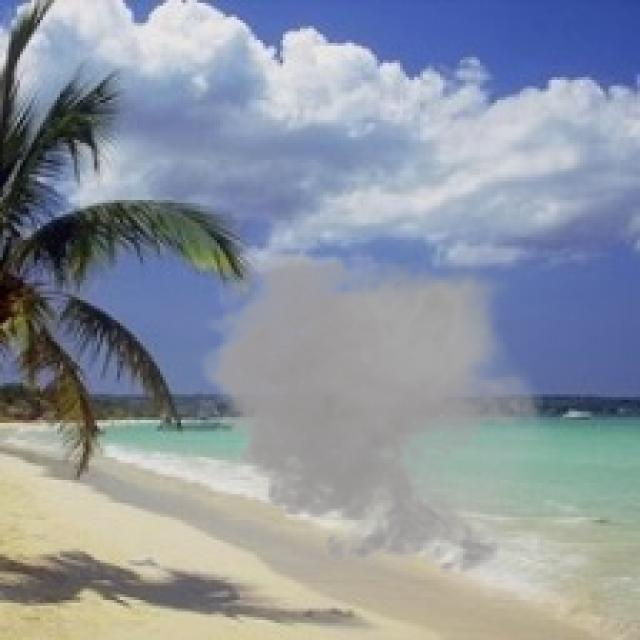smoke: (189, 240, 560, 586)
